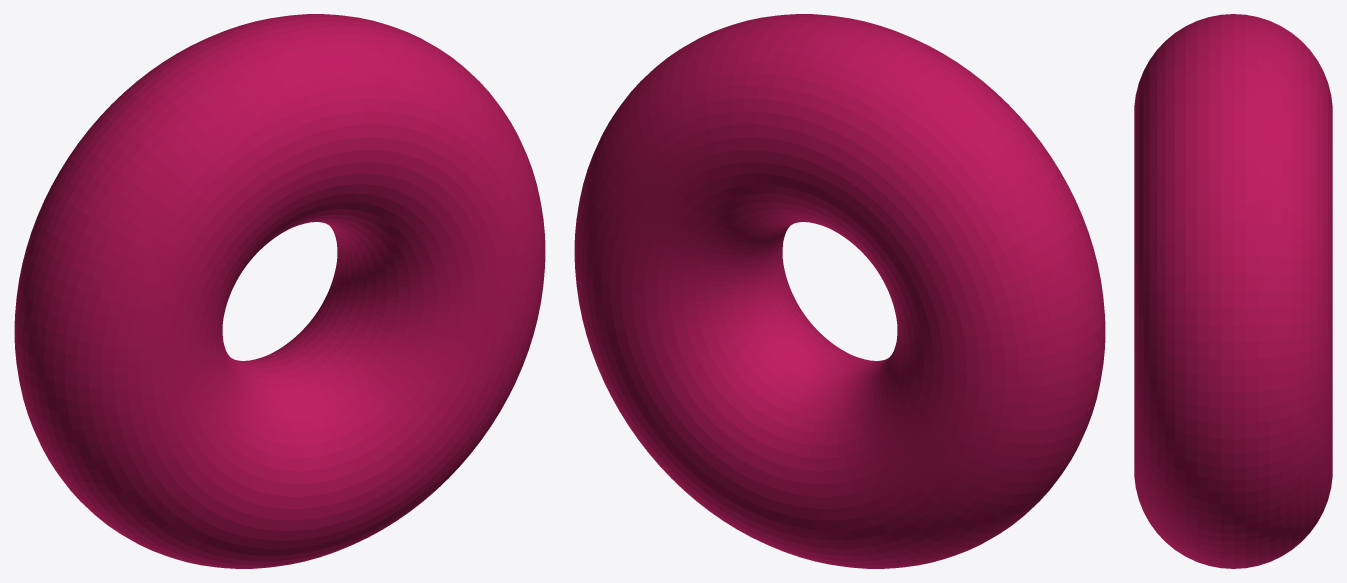
The picture shows the model from 3 angles, left to right: view 1: azimuth 30°, elevation 25°; view 2: azimuth 150°, elevation 25°; view 3: azimuth 270°, elevation 25°; orthographic projection. The views are drawn at different scales.
Visible parts, largest first — view 1: world; view 2: world; view 3: world.
Part boxes in pixels (x1,y1,x2,y2): world: (14, 14, 545, 568); world: (574, 14, 1105, 568); world: (1134, 14, 1332, 568).
Bounding box in the file's own units: 24.93 × 24.93 × 8.92.
